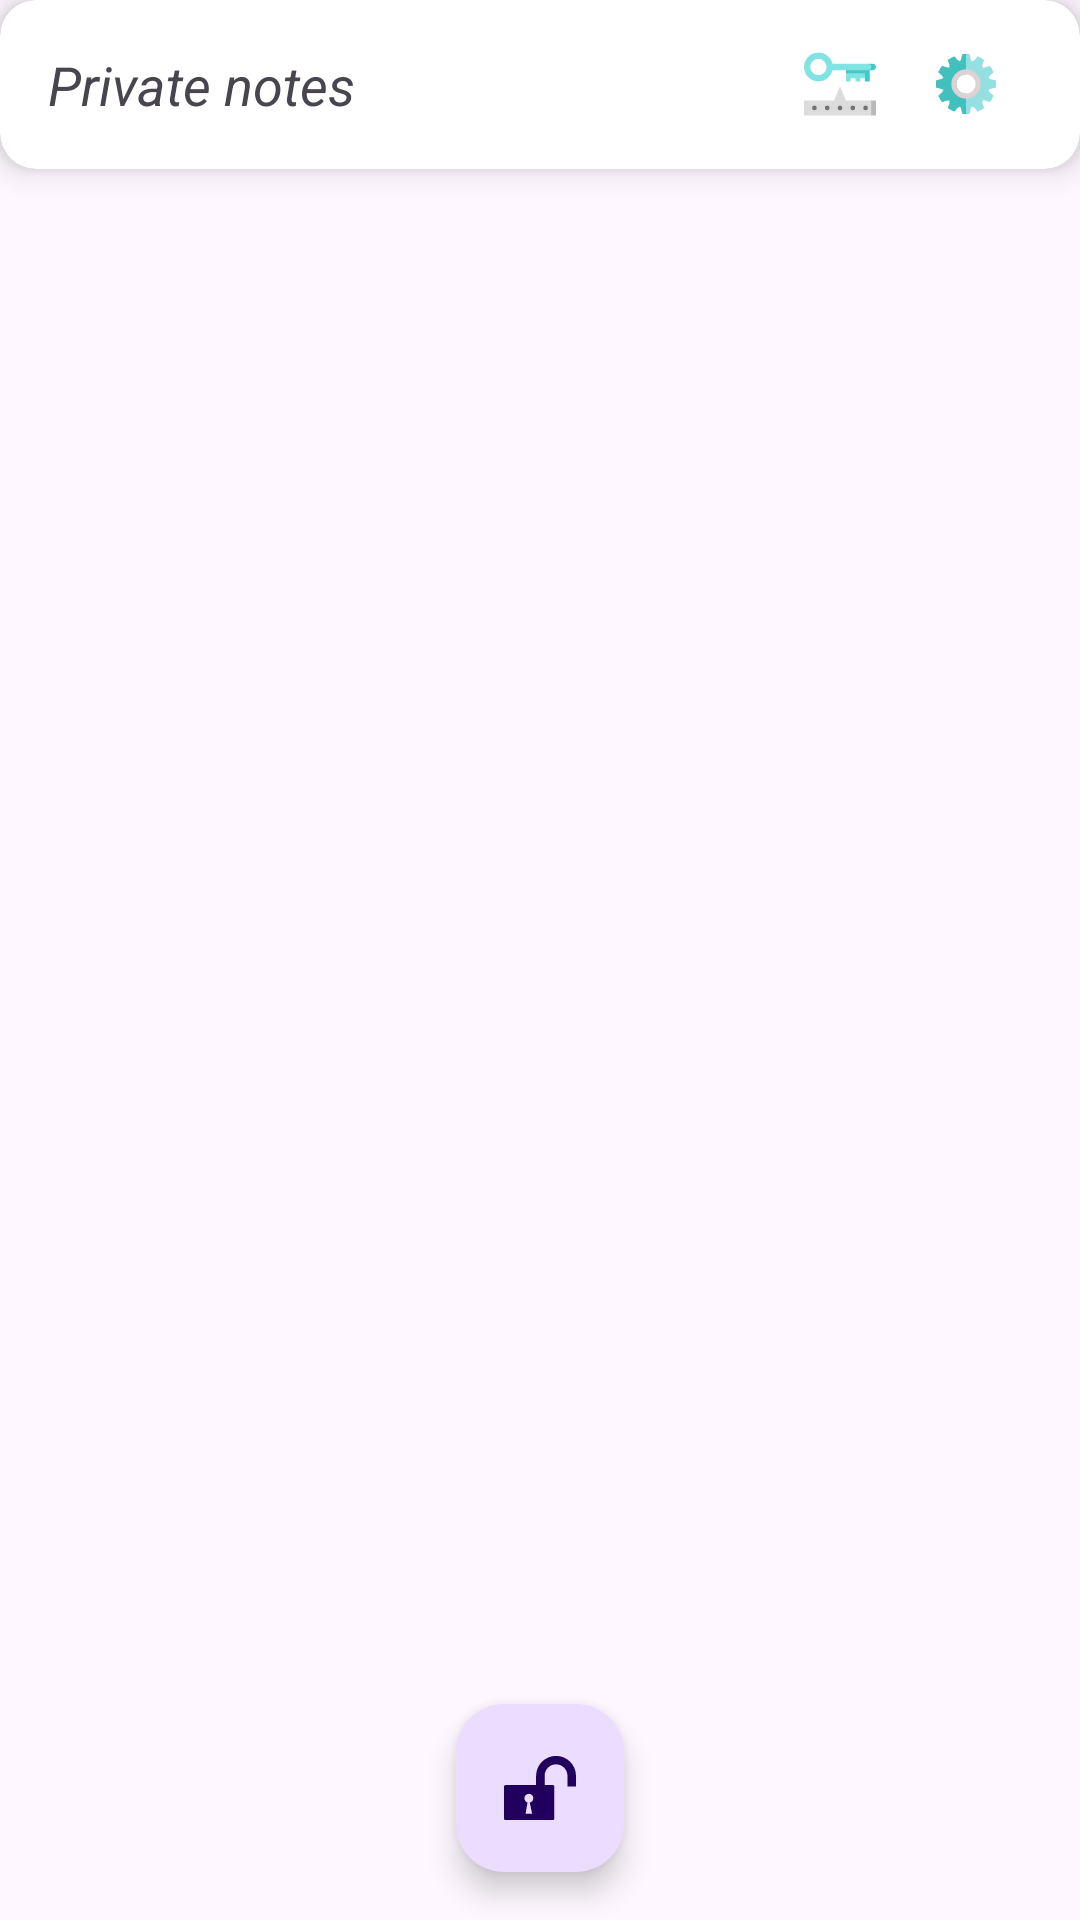

Icons on this 1080x1920 Android screen, each with the point to tap as [x,y]:
settings: [966,84]
unlock: [540,1788]
